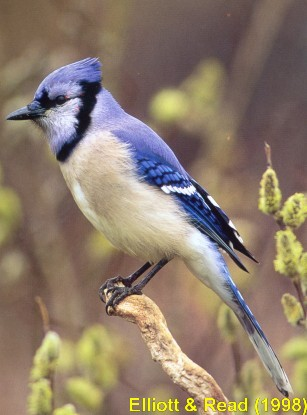bird: (26, 57, 256, 310)
